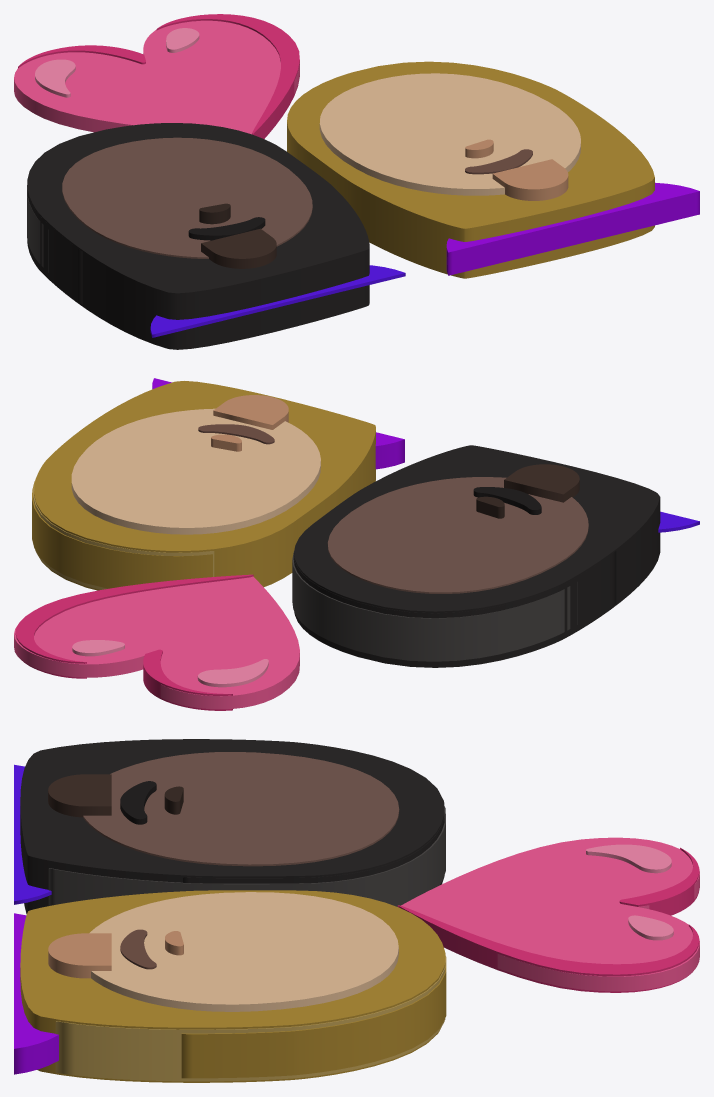
Rendered from emoji_u1f469_1f3ff_200d_2764_200d_1f469_1f3fc.glb.
3 renders of one model, top to bottom at view 1: azimuth 30°, elevation 25°; view 2: azimuth 150°, elevation 25°; view 3: azimuth 270°, elevation 25°, orthographic. The views are drawn at different scales.
Visible parts, largest first — view 1: emoji_u1f469_1f3ff_200d_2764_200d_1f469_1f3fc; view 2: emoji_u1f469_1f3ff_200d_2764_200d_1f469_1f3fc; view 3: emoji_u1f469_1f3ff_200d_2764_200d_1f469_1f3fc.
Boxes of the visible parts, x1,y1,x2,y2 form: emoji_u1f469_1f3ff_200d_2764_200d_1f469_1f3fc: (14,14,699,349); emoji_u1f469_1f3ff_200d_2764_200d_1f469_1f3fc: (14,378,699,710); emoji_u1f469_1f3ff_200d_2764_200d_1f469_1f3fc: (14,739,699,1082).
Bounding box in the file's own units: 0.0345 × 0.005 × 0.0338.
